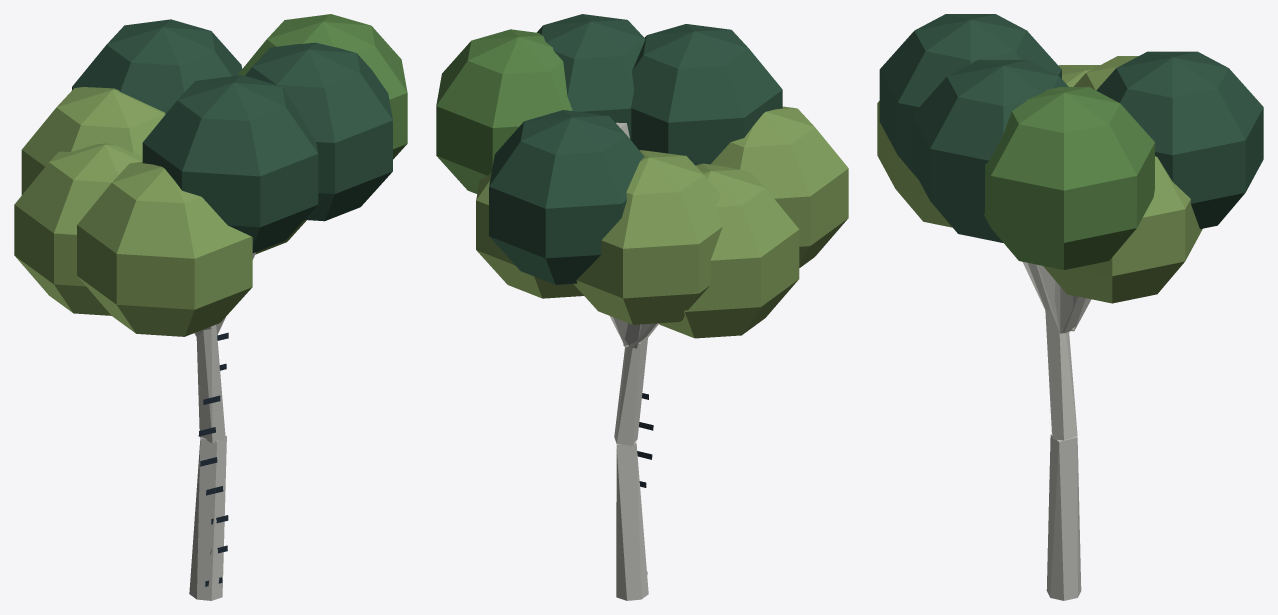
File: vegetation-birch.lod1.glb
The picture shows the model from 3 angles, left to right: view 1: azimuth 30°, elevation 25°; view 2: azimuth 150°, elevation 25°; view 3: azimuth 270°, elevation 25°; orthographic projection. The views are drawn at different scales.
Visible parts, largest first — view 1: vegetation-birch__body; view 2: vegetation-birch__body; view 3: vegetation-birch__body.
Part boxes in pixels (x1=…): vegetation-birch__body: x1=14, y1=14, x2=407, y2=600; vegetation-birch__body: x1=436, y1=14, x2=848, y2=600; vegetation-birch__body: x1=877, y1=14, x2=1263, y2=600.
Bounding box in the file's own units: 4.31 × 6.34 × 3.93.
